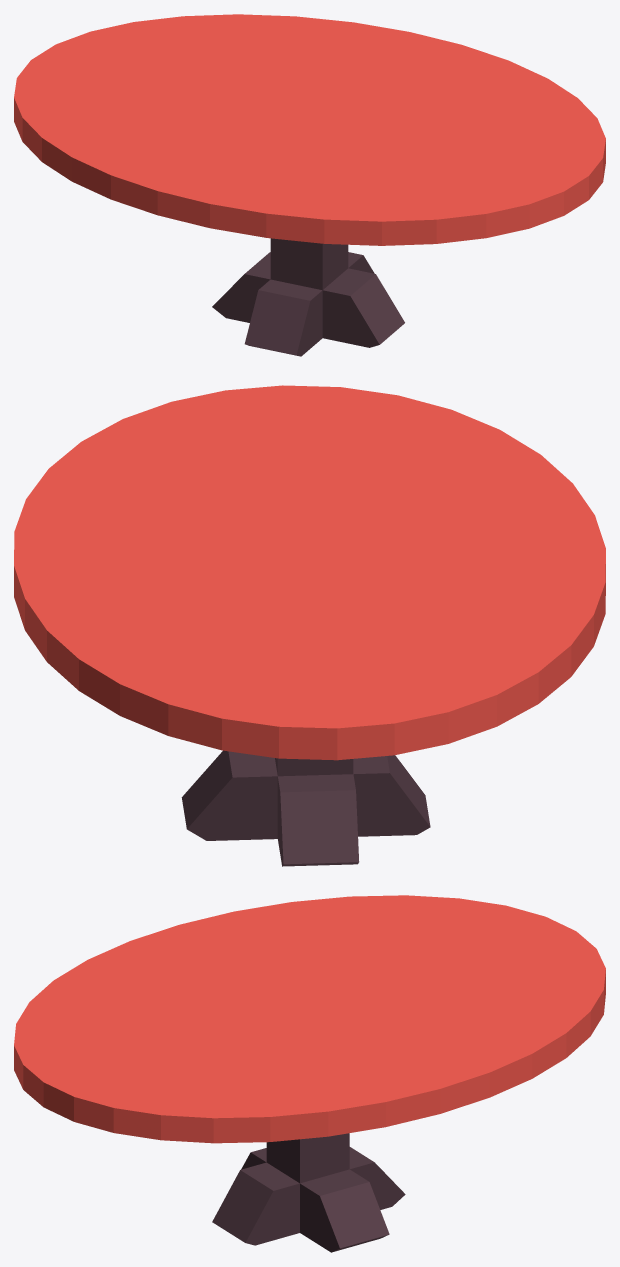
The model's file is CoffeTable.fbx.
3 views of the same model, one above another, from view 1: azimuth 30°, elevation 25°; view 2: azimuth 150°, elevation 25°; view 3: azimuth 270°, elevation 25° (orthographic). The views are drawn at different scales.
Parts seen in each view (by area): view 1: CoffeTable, CoffeTableBase; view 2: CoffeTable, CoffeTableBase; view 3: CoffeTable, CoffeTableBase.
Part boxes in pixels (left/top/right/bottom): CoffeTable: left=14, top=14, right=605, bottom=245; CoffeTableBase: left=212, top=238, right=404, bottom=356; CoffeTable: left=14, top=385, right=605, bottom=760; CoffeTableBase: left=181, top=750, right=430, bottom=866; CoffeTable: left=14, top=895, right=605, bottom=1143; CoffeTableBase: left=212, top=1133, right=405, bottom=1252.
Size of the model in its own units: 23441 by 20888 by 9147.
